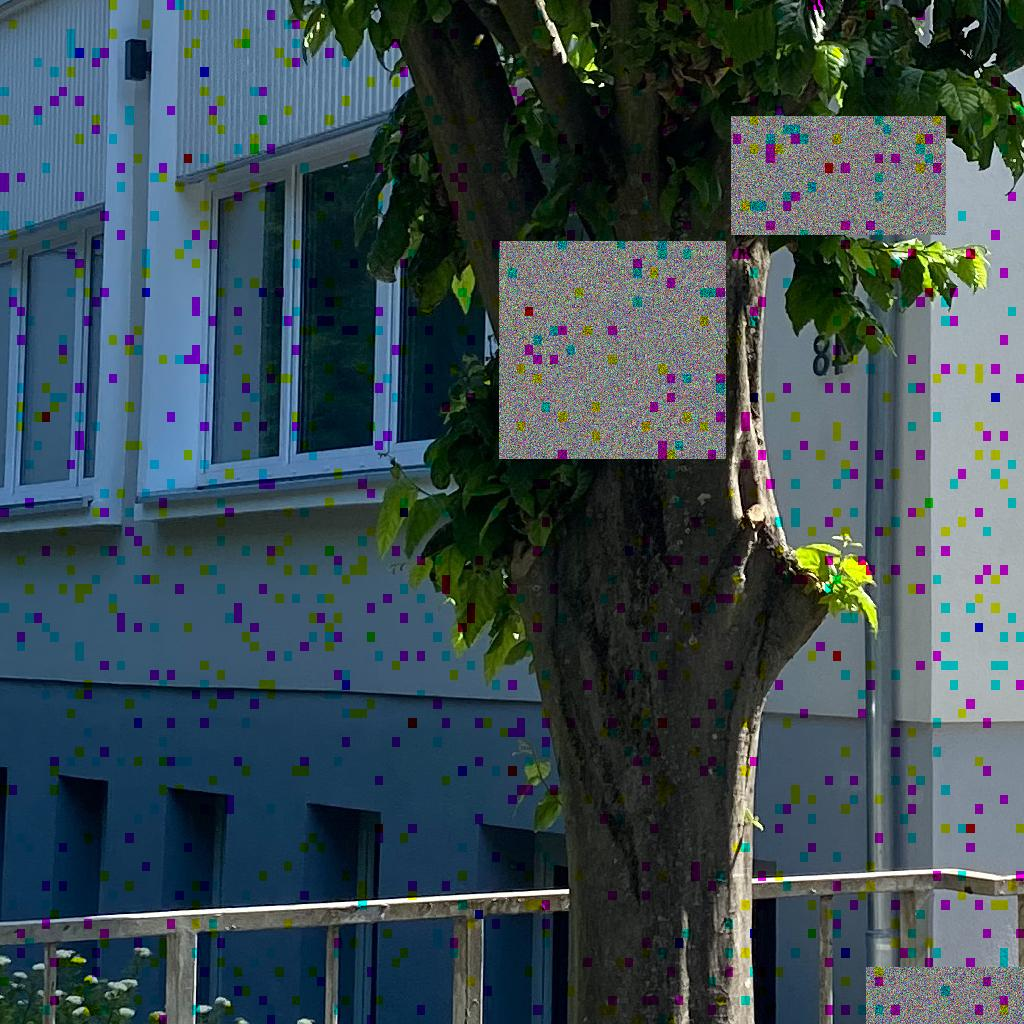tree: (287, 1, 1023, 1024)
